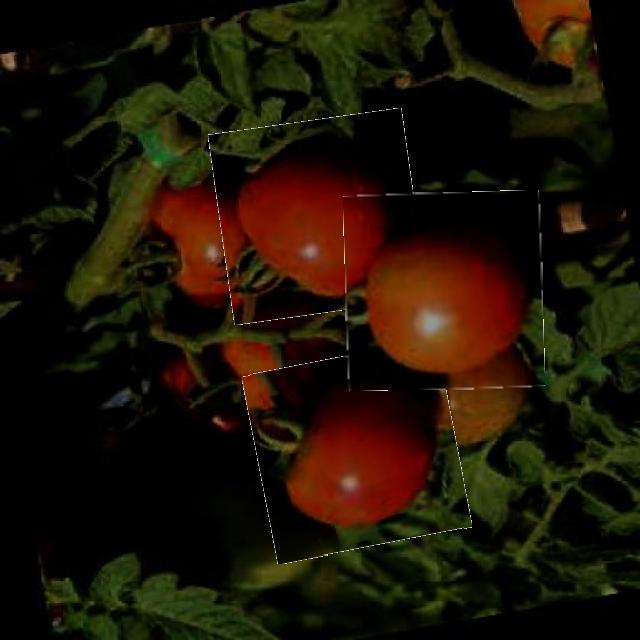tomato: (250, 348, 464, 556), (214, 115, 421, 319), (345, 192, 543, 390)
